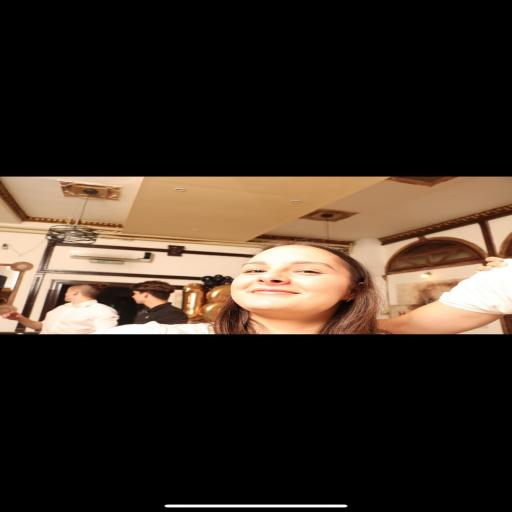marija: (239, 247, 355, 314)
